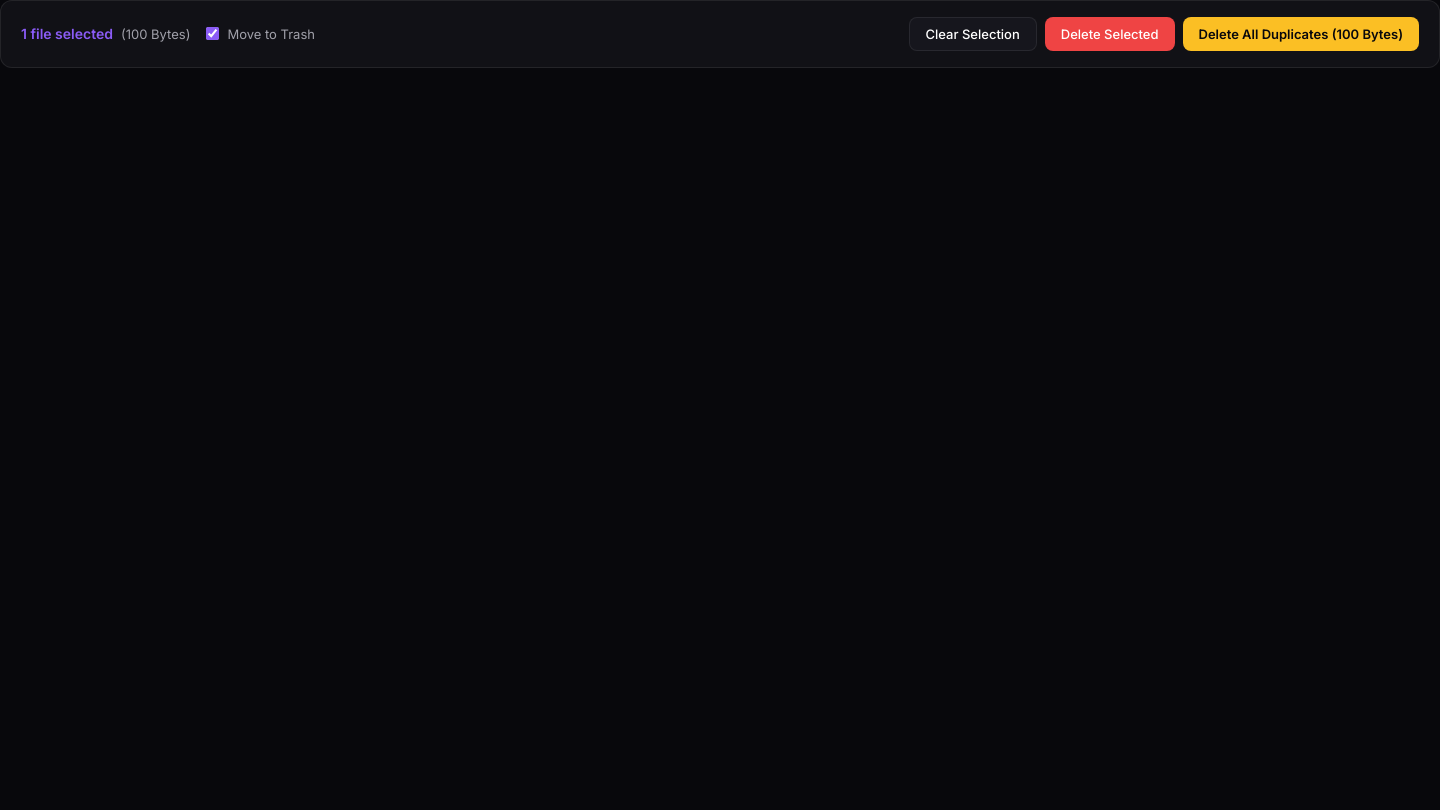
Scenario: DeleteControls › should show error message when deletion fails completely
Click the button "Delete Selected" at {"x": 1110, "y": 34}, box [1045, 17, 1175, 51]
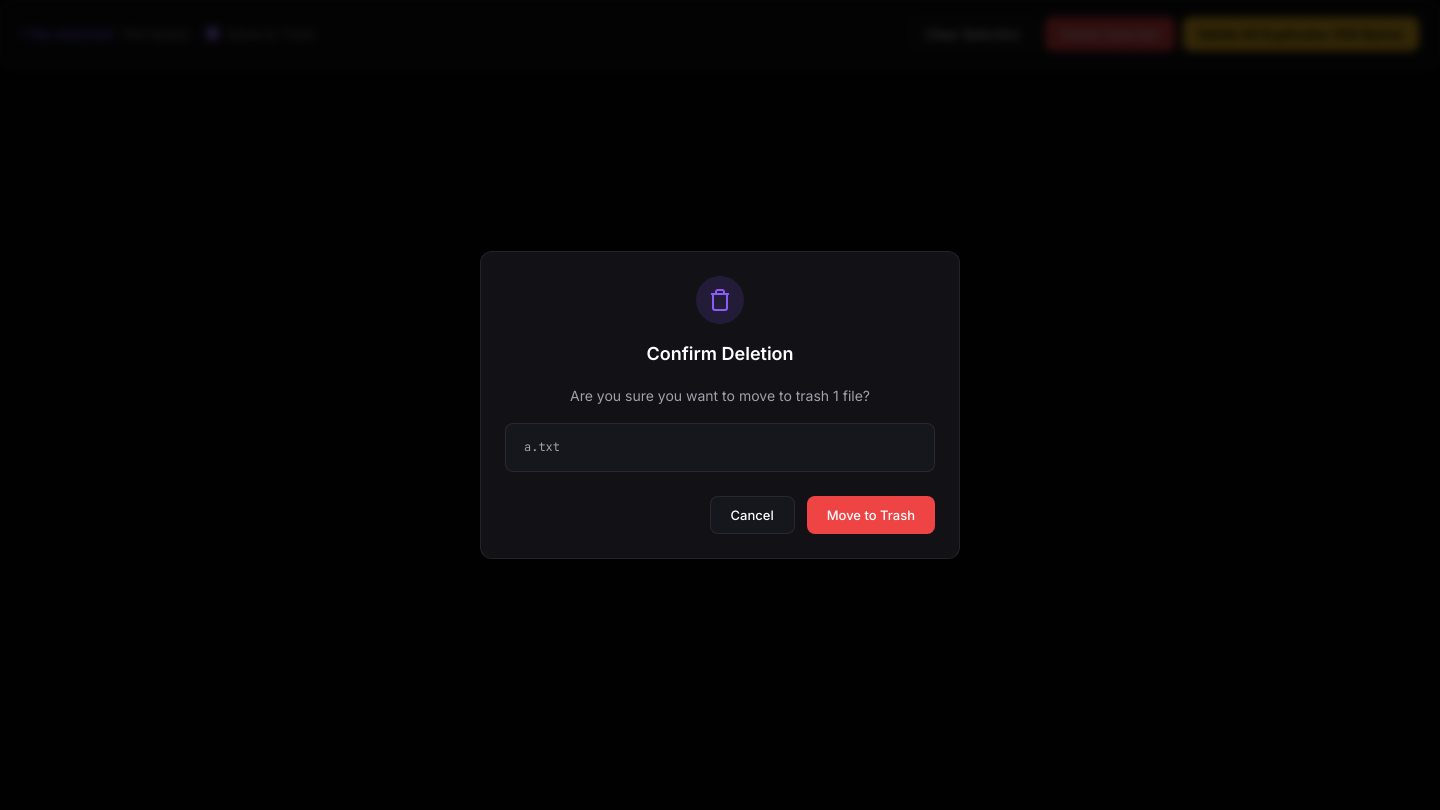
Click the button "Move to Trash" at {"x": 871, "y": 515}, box [807, 496, 935, 534]
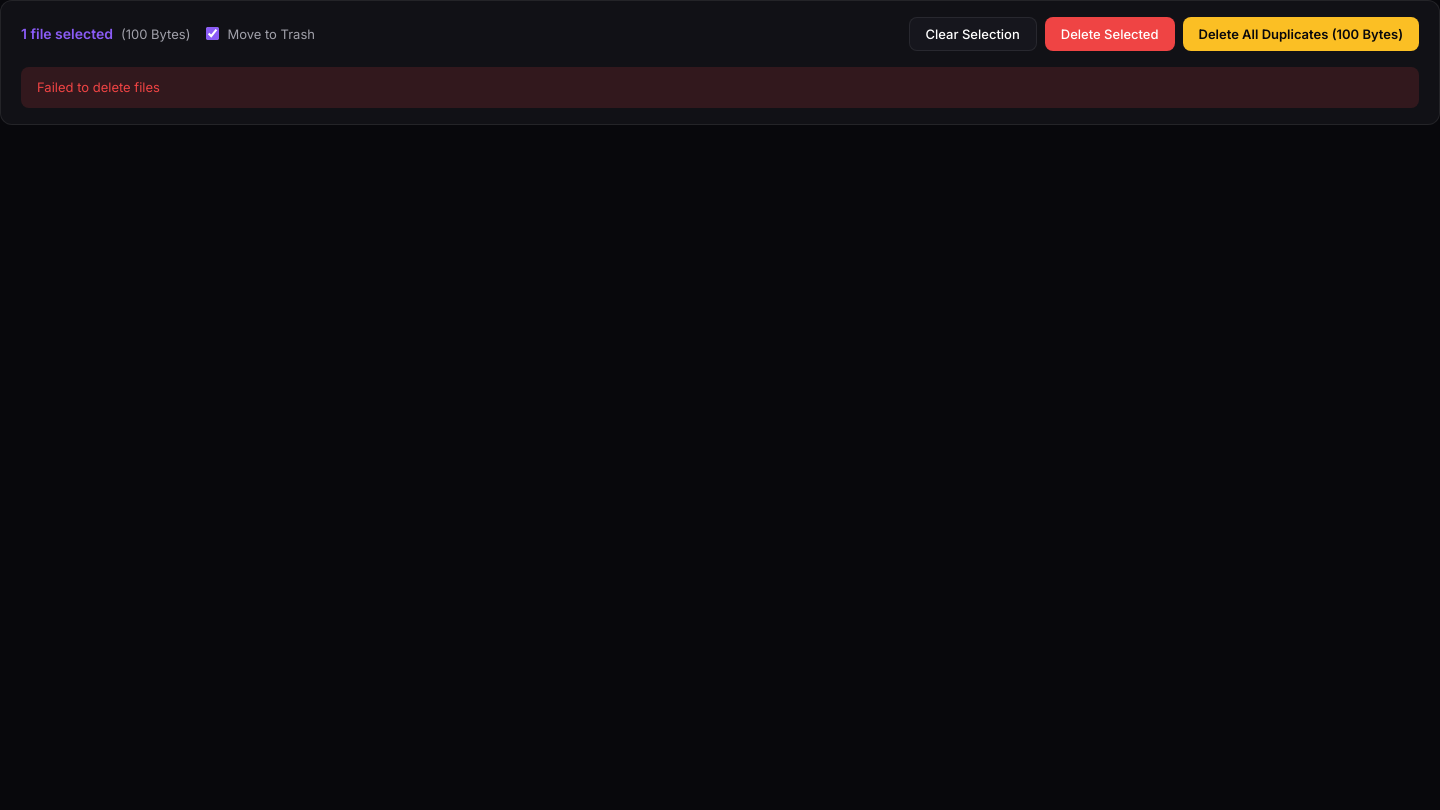
expect the text "Failed to delete files" is shown: met, box [21, 67, 1419, 108]
